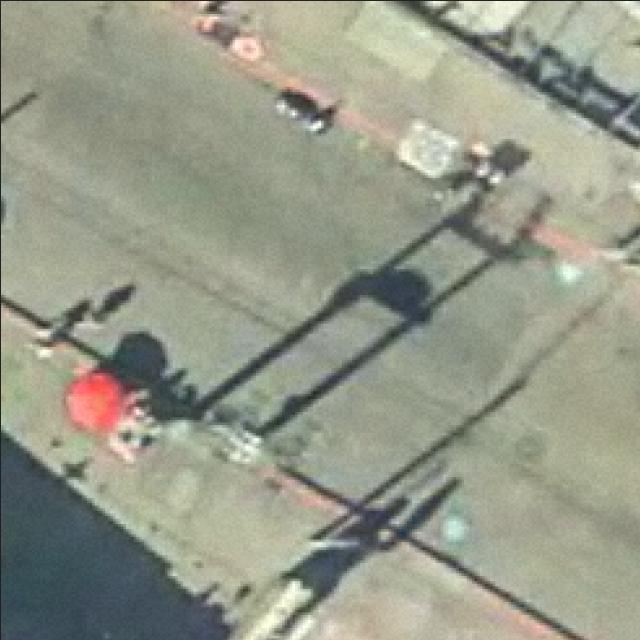vendedor_ambulante: (57, 364, 126, 434)
